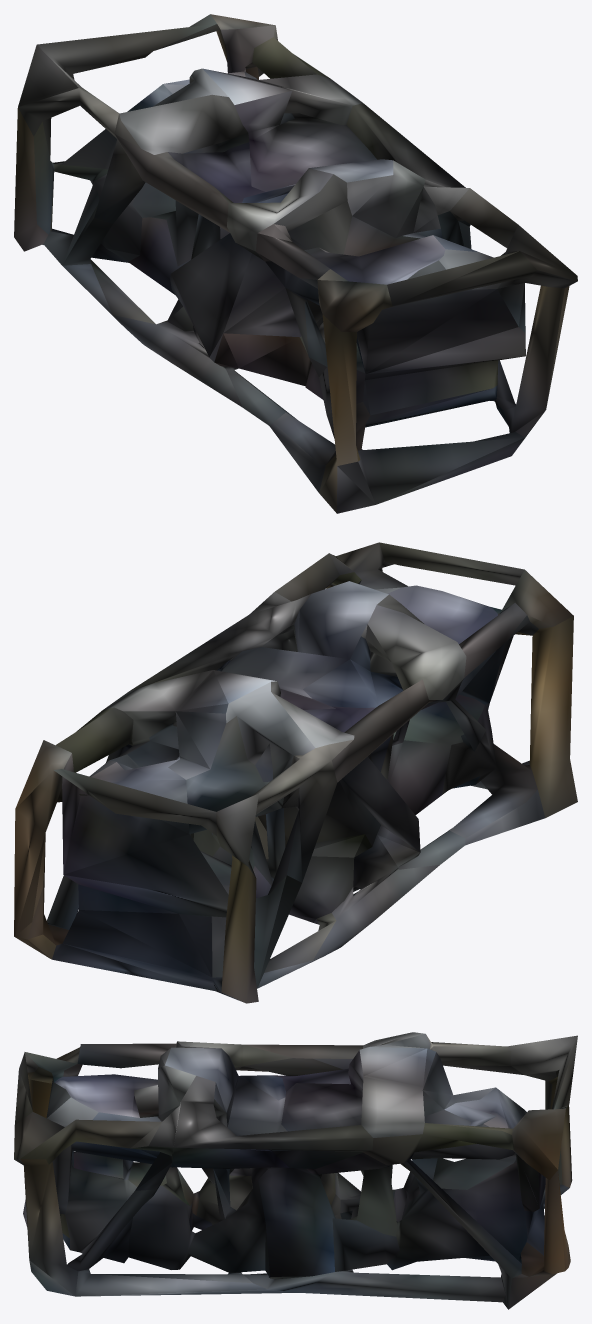
Rendered from cargo_piece_5.glb.
3 renders of one model, top to bottom at view 1: azimuth 30°, elevation 25°; view 2: azimuth 150°, elevation 25°; view 3: azimuth 270°, elevation 25°, orthographic. The views are drawn at different scales.
Parts seen in each view (by area): view 1: cargo_5; view 2: cargo_5; view 3: cargo_5.
Boxes of the visible parts, <box> form: cargo_5: <box>14,14,577,513</box>; cargo_5: <box>14,542,577,1003</box>; cargo_5: <box>14,1032,577,1309</box>.
Size of the model in its own units: 0.05 by 0.0499 by 0.1204.
1 material, 1 textured.
